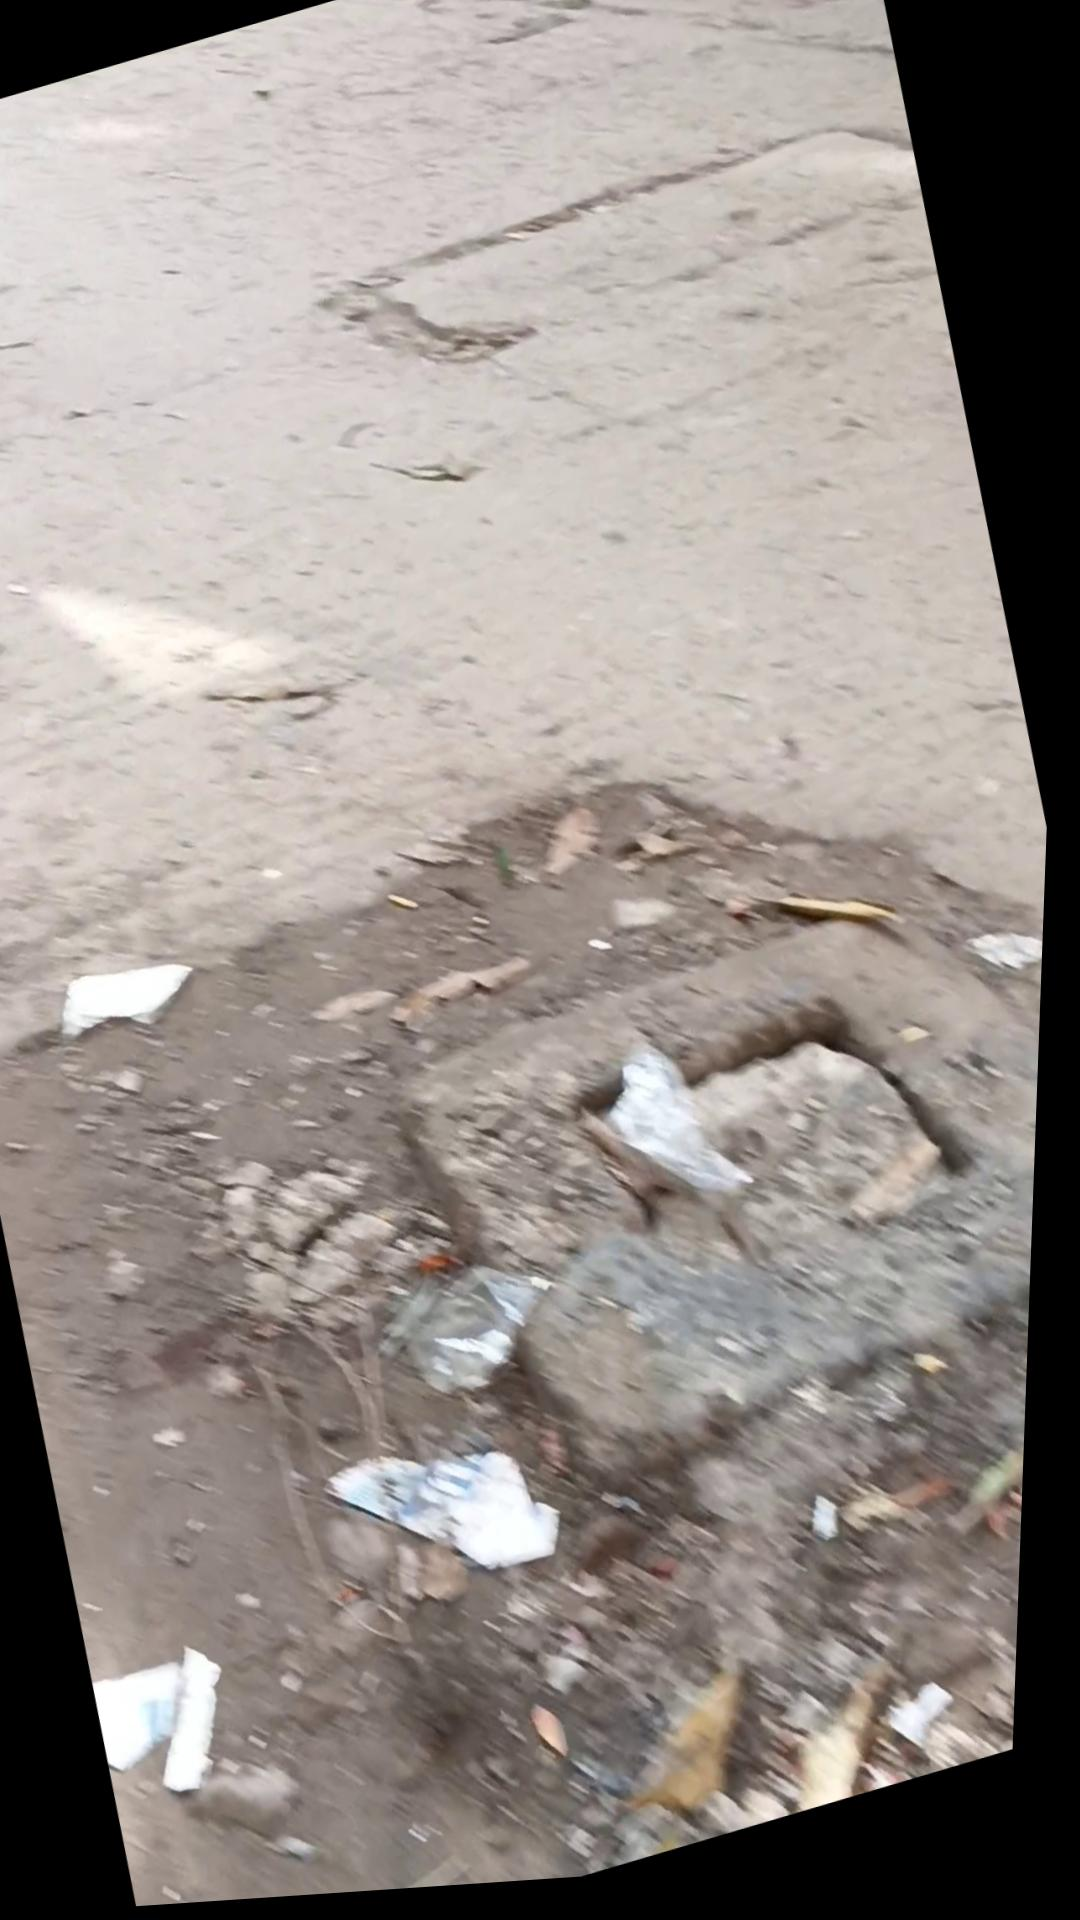Animal: (558, 951, 1002, 1321)
Crosswalk: (310, 102, 932, 407), (327, 104, 909, 322)
Fence: (202, 1163, 996, 1907)
